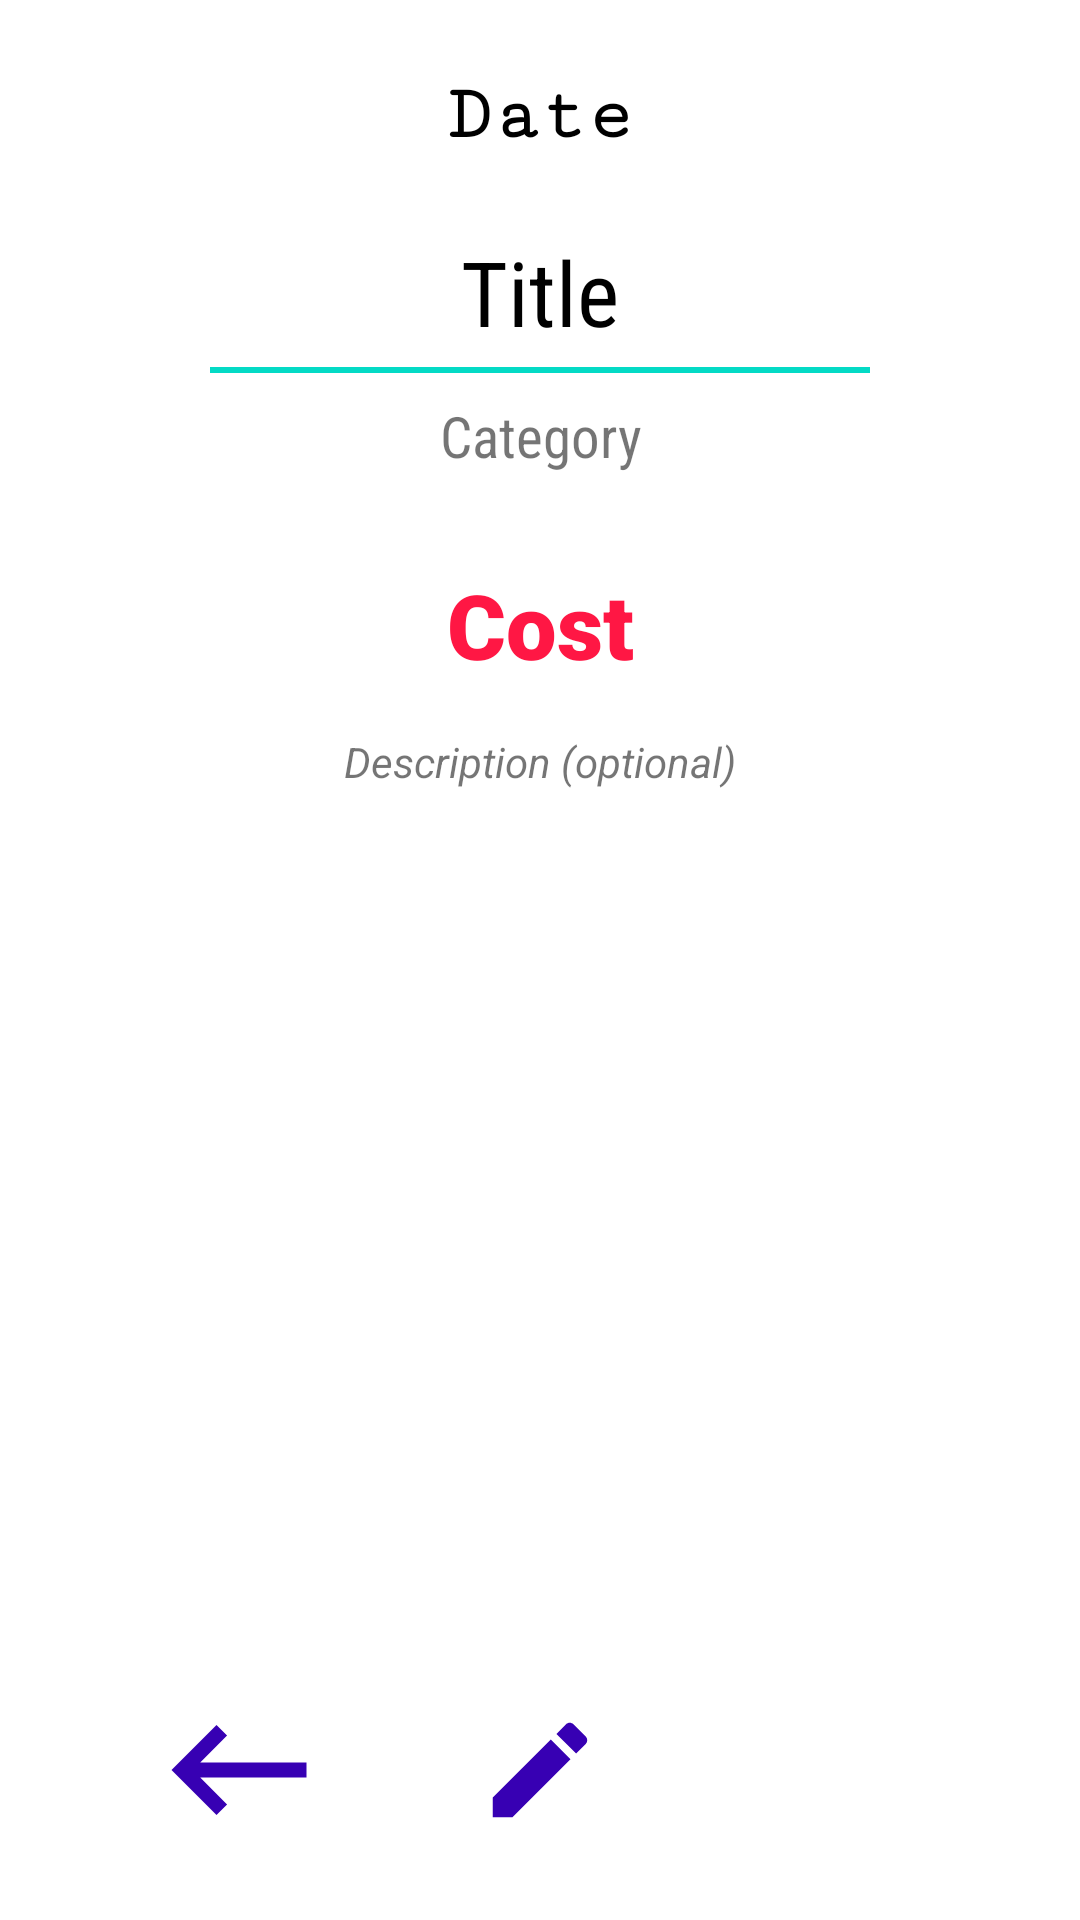

Icons on this 1080 × 1920 Android screen, each with its box as (left=x1, top=y1, right=x2, bottom=y2):
back: (left=171, top=1725, right=307, bottom=1815)
Edit: (left=492, top=1722, right=588, bottom=1818)
